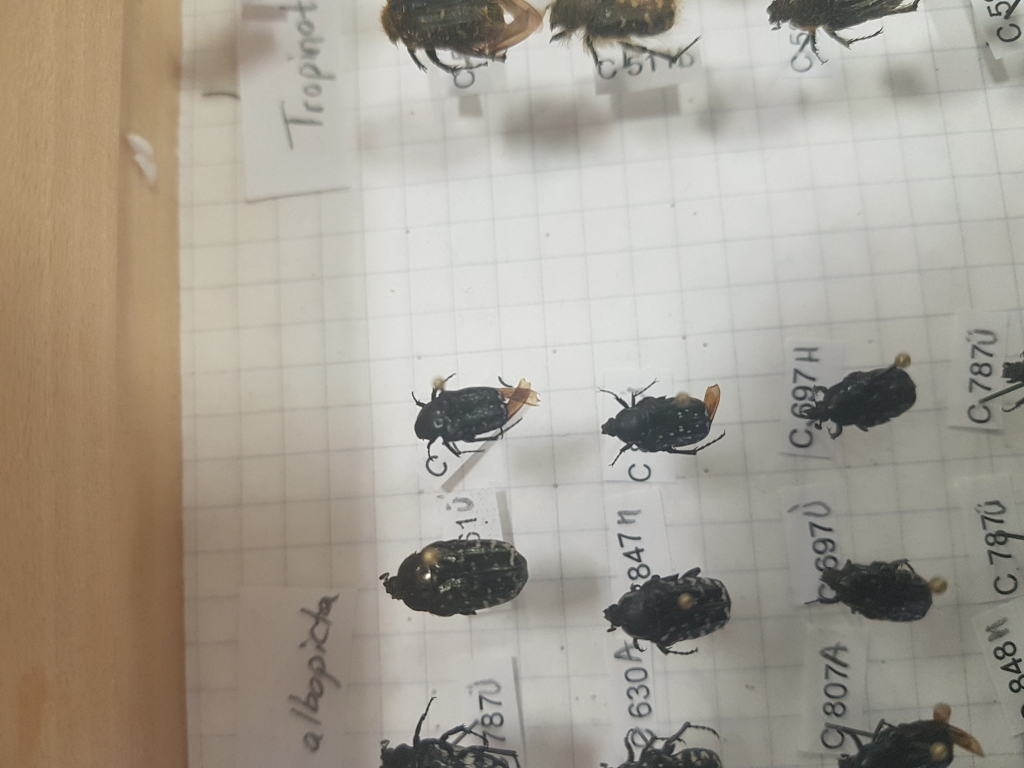Oxythyrea_albopicta: (601, 564, 742, 664)
